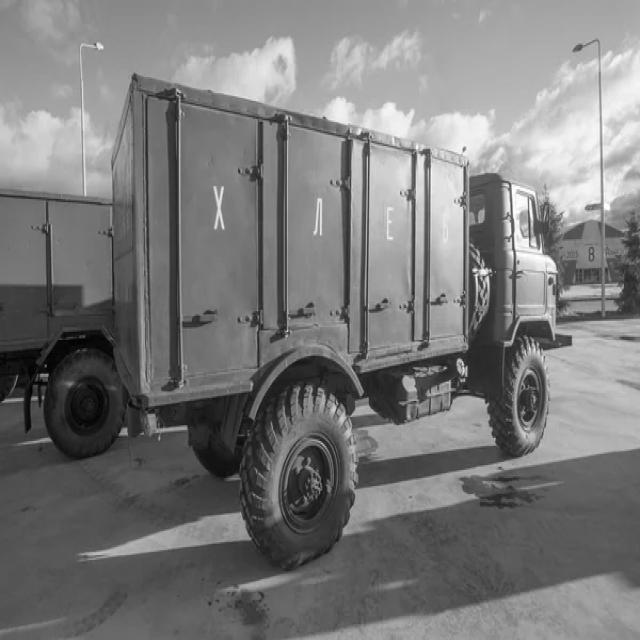Truck: (112, 76, 571, 568)
